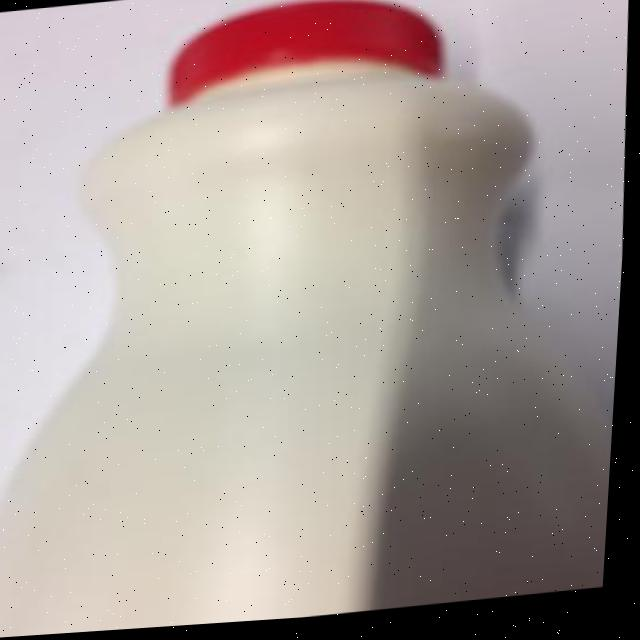plastic: (0, 0, 640, 640)
